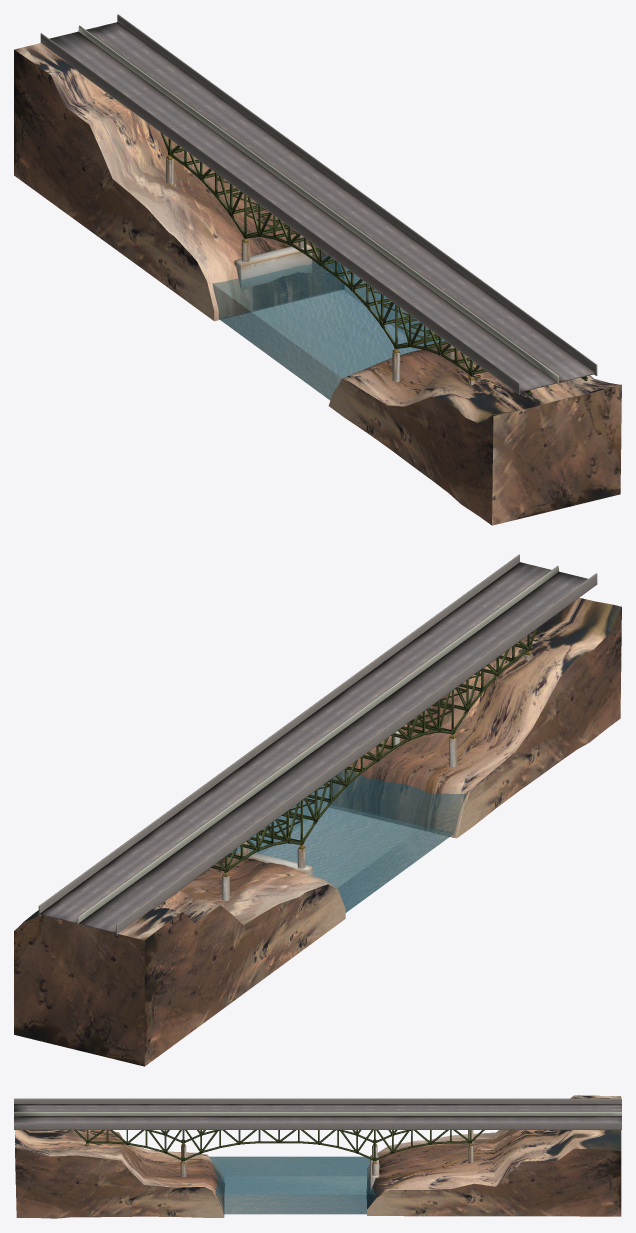
The model's file is bridge.dae.
3 renders of one model, top to bottom at view 1: azimuth 30°, elevation 25°; view 2: azimuth 150°, elevation 25°; view 3: azimuth 270°, elevation 25°, orthographic. The views are drawn at different scales.
Visible parts, largest first — view 1: polySurface2, polySurface3, pCube9, pCube5, pCube8, pCube6, pCube2, pCube7, pCube97; view 2: polySurface2, polySurface3, pCube5, pCube9, pCube8, pCube6, pCube2, pCube7; view 3: polySurface2, polySurface3, pCube9, pCube2, pCube8, pCube5, pCube6, pCube7.
Part boxes in pixels (<box>): polySurface2: <box>14,43,343,321</box>; polySurface3: <box>328,343,621,525</box>; pCube9: <box>212,256,444,400</box>; pCube5: <box>86,22,596,382</box>; pCube8: <box>49,31,557,392</box>; pCube6: <box>40,33,520,394</box>; pCube2: <box>117,14,597,375</box>; pCube7: <box>78,25,559,382</box>; pCube97: <box>234,244,312,290</box>; polySurface2: <box>14,853,345,1066</box>; polySurface3: <box>329,597,621,838</box>; pCube5: <box>40,562,551,923</box>; pCube9: <box>231,770,465,912</box>; pCube8: <box>79,571,587,933</box>; pCube6: <box>116,573,597,935</box>; pCube2: <box>38,554,519,916</box>; pCube7: <box>77,566,559,923</box>; polySurface2: <box>366,1095,621,1216</box>; polySurface3: <box>15,1130,224,1218</box>; pCube9: <box>209,1156,375,1214</box>; pCube2: <box>14,1122,621,1129</box>; pCube8: <box>14,1104,621,1111</box>; pCube5: <box>14,1116,621,1122</box>; pCube6: <box>14,1098,621,1103</box>; pCube7: <box>14,1112,621,1115</box>.
Size of the model in its own units: 13.55 by 13.66 by 85.6.
Materials: 9 (9 with a texture image).
